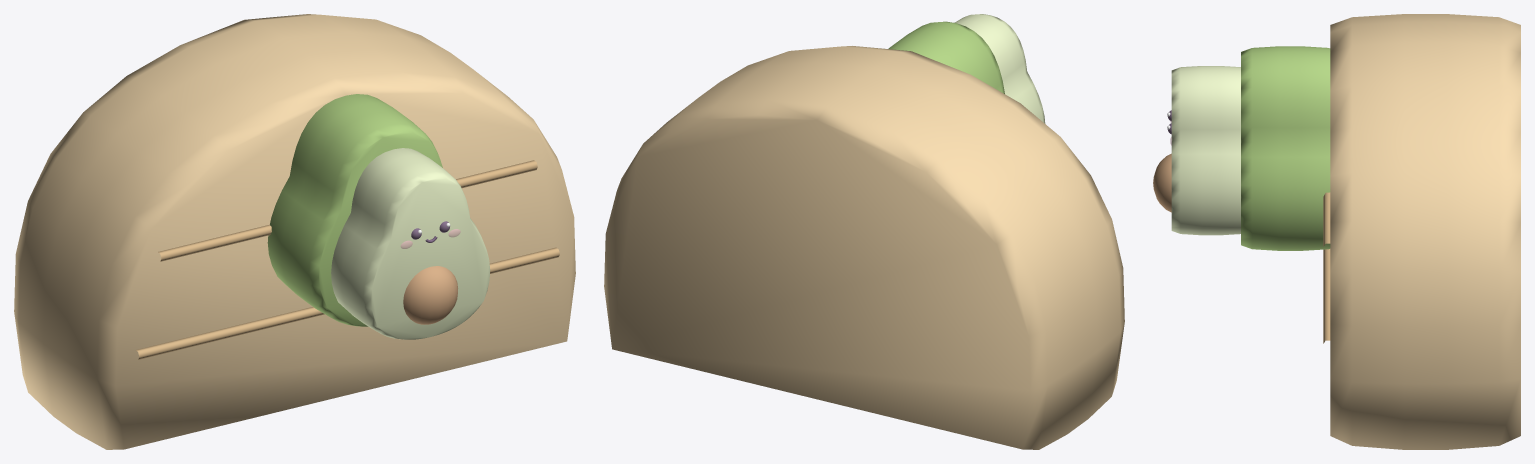
Rendered from decor_5_classic.glb.
The picture shows the model from 3 angles, left to right: view 1: azimuth 30°, elevation 25°; view 2: azimuth 150°, elevation 25°; view 3: azimuth 270°, elevation 25°; orthographic projection. The views are drawn at different scales.
Parts seen in each view (by area): view 1: decor_5_classic; view 2: decor_5_classic; view 3: decor_5_classic.
Boxes of the visible parts, <box> form: decor_5_classic: <box>14,14,575,449</box>; decor_5_classic: <box>604,14,1124,449</box>; decor_5_classic: <box>1153,14,1520,449</box>.
Size of the model in its own units: 8.68 by 5.57 by 6.15.
